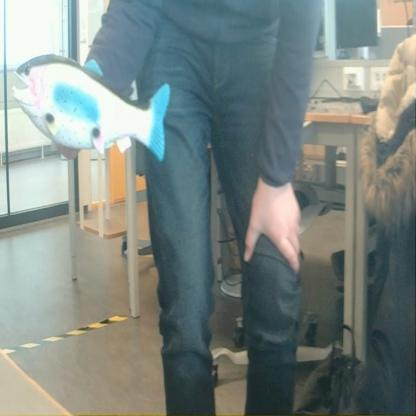rubberfish: (8, 43, 173, 167)
